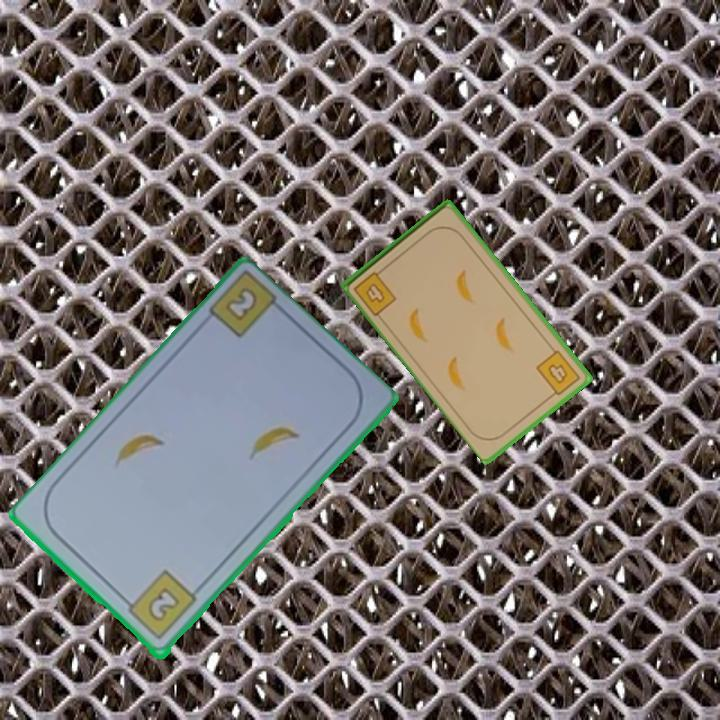2b: (119, 567, 200, 643), (225, 287, 257, 321)
4b: (532, 346, 583, 401), (350, 264, 400, 319)
